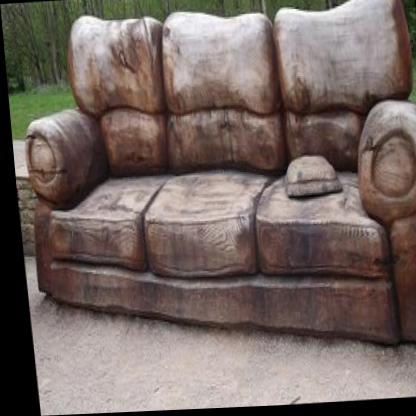Sofa: (8, 0, 416, 378)
